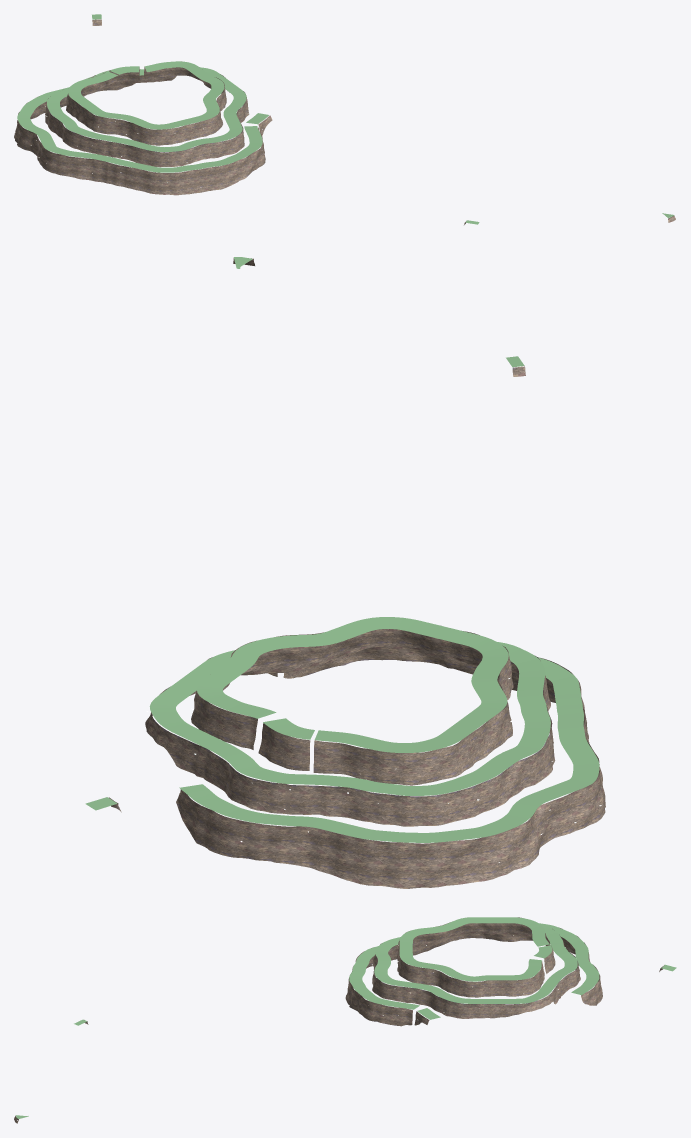
Rendered from CliffWall_plateau_southeast.glb.
3 renders of one model, top to bottom at view 1: azimuth 30°, elevation 25°; view 2: azimuth 150°, elevation 25°; view 3: azimuth 270°, elevation 25°, orthographic. The views are drawn at different scales.
Visible parts, largest first — view 1: CliffWall_plateau_southeast-rock7, CliffWall_plateau_southeast-rock3, CliffWall_plateau_southeast-rock1, CliffWall_plateau_southeast-lip3, CliffWall_plateau_southeast-lip1, CliffWall_plateau_southeast-lip7; view 2: CliffWall_plateau_southeast-rock7, CliffWall_plateau_southeast-rock3, CliffWall_plateau_southeast-rock1, CliffWall_plateau_southeast-lip1, CliffWall_plateau_southeast-lip3, CliffWall_plateau_southeast-lip7, CliffWall_plateau_southeast-rock0; view 3: CliffWall_plateau_southeast-rock3, CliffWall_plateau_southeast-rock1, CliffWall_plateau_southeast-rock7, CliffWall_plateau_southeast-lip1, CliffWall_plateau_southeast-lip3, CliffWall_plateau_southeast-lip7.
Part boxes in pixels (bbox=[...]): CliffWall_plateau_southeast-rock7: bbox=[14, 82, 265, 195]; CliffWall_plateau_southeast-rock3: bbox=[45, 69, 249, 167]; CliffWall_plateau_southeast-rock1: bbox=[66, 67, 226, 145]; CliffWall_plateau_southeast-lip3: bbox=[47, 67, 246, 152]; CliffWall_plateau_southeast-lip1: bbox=[68, 61, 224, 129]; CliffWall_plateau_southeast-lip7: bbox=[17, 76, 262, 172]; CliffWall_plateau_southeast-rock7: bbox=[176, 646, 605, 888]; CliffWall_plateau_southeast-rock3: bbox=[145, 645, 555, 826]; CliffWall_plateau_southeast-rock1: bbox=[191, 629, 513, 785]; CliffWall_plateau_southeast-lip1: bbox=[196, 617, 508, 752]; CliffWall_plateau_southeast-lip3: bbox=[149, 642, 550, 795]; CliffWall_plateau_southeast-lip7: bbox=[179, 657, 599, 842]; CliffWall_plateau_southeast-rock0: bbox=[258, 723, 310, 770]; CliffWall_plateau_southeast-rock3: bbox=[372, 931, 580, 1018]; CliffWall_plateau_southeast-rock1: bbox=[396, 917, 549, 997]; CliffWall_plateau_southeast-rock7: bbox=[345, 928, 602, 1026]; CliffWall_plateau_southeast-lip1: bbox=[399, 917, 549, 981]; CliffWall_plateau_southeast-lip3: bbox=[374, 925, 577, 1003]; CliffWall_plateau_southeast-lip7: bbox=[349, 923, 599, 1009].
Bounding box in the file's own units: 1330 × 148 × 1854.
Materials: 4 (1 with a texture image).
